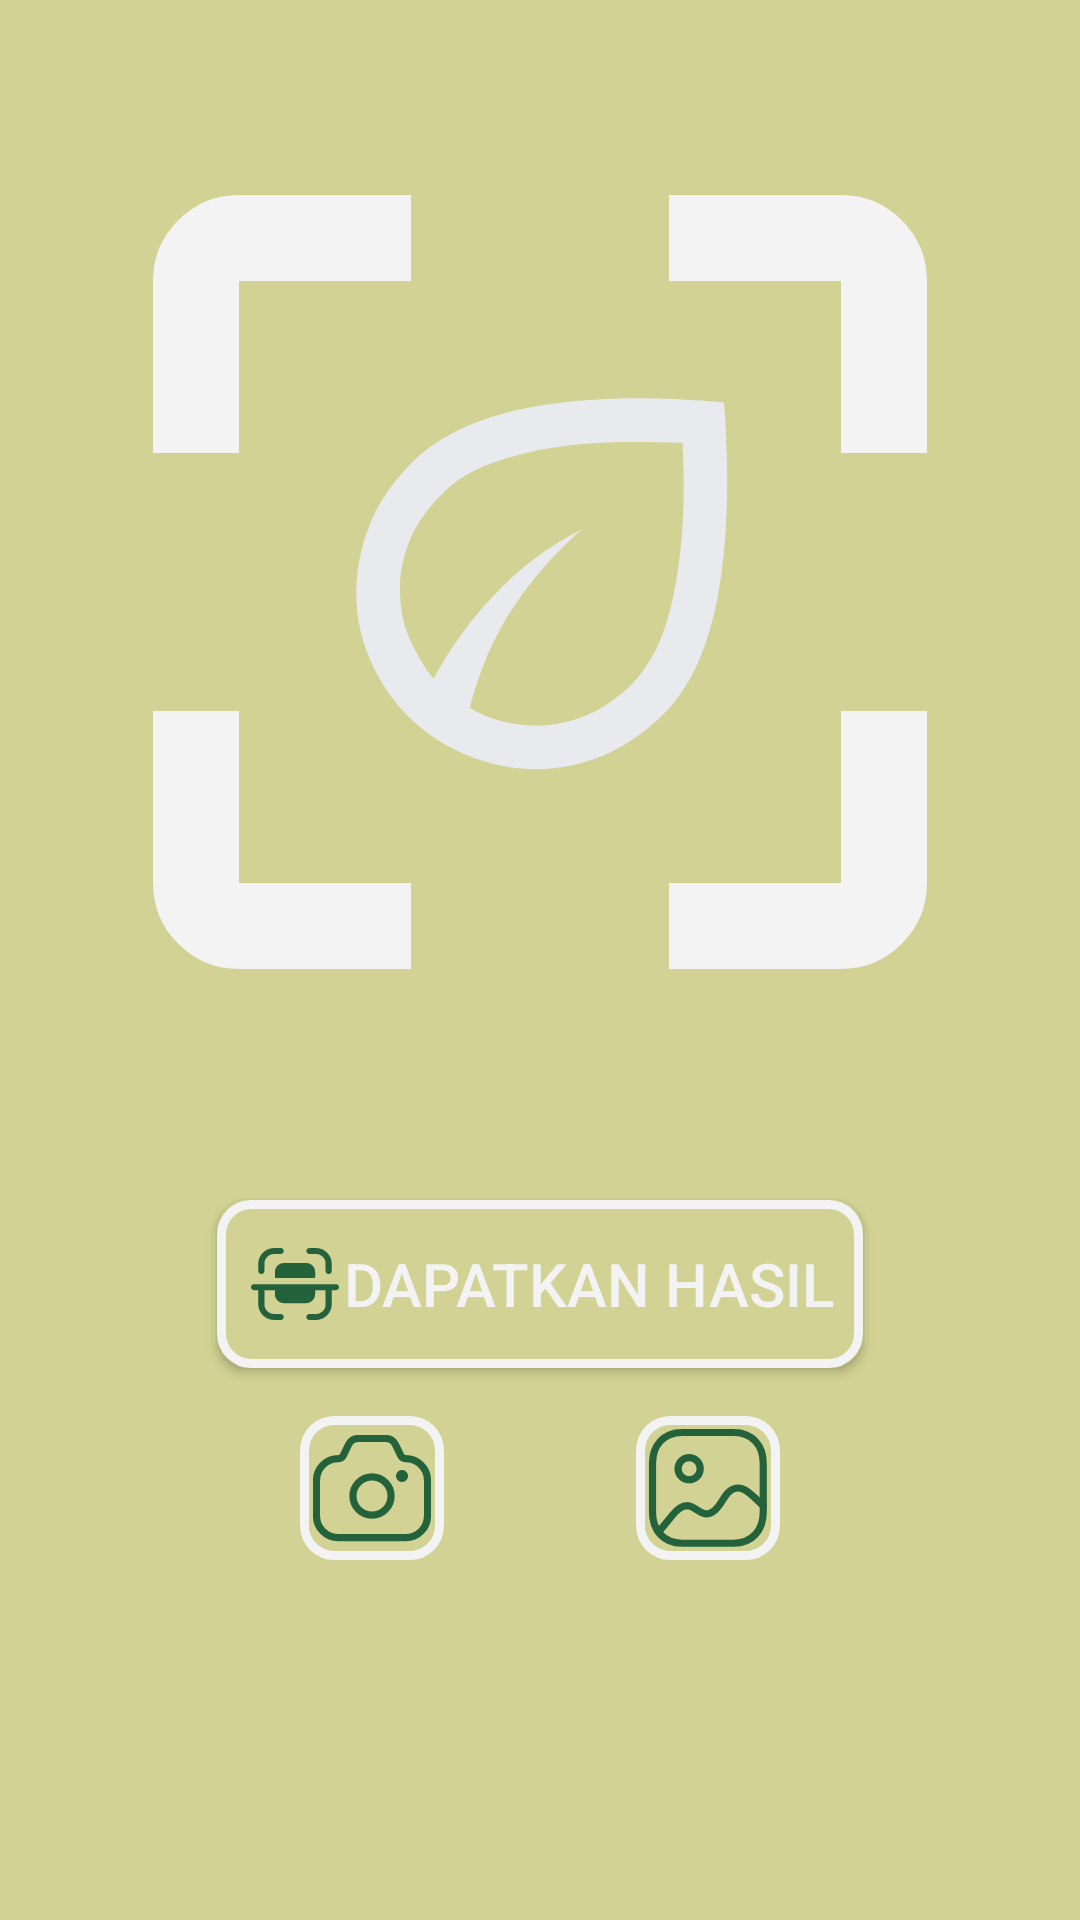

Icons on this 1080 × 1920 Android screen, each with the point to tap as point (x, y):
camera: point (372, 1488)
gallery: point (708, 1488)
